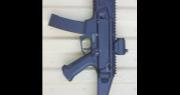gun: (47, 0, 128, 95)
